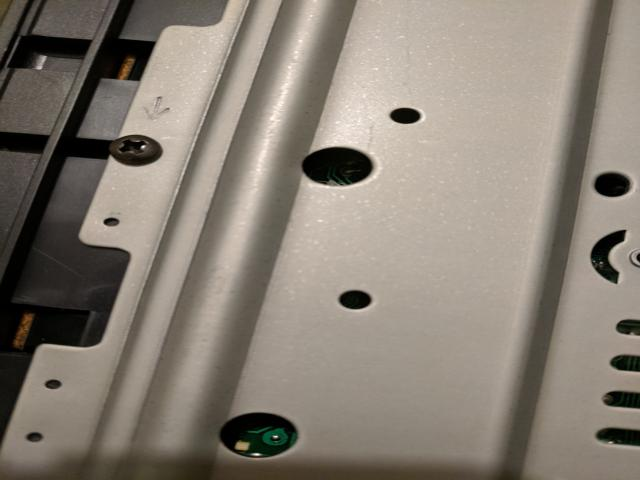CRS: (108, 134, 162, 165)
